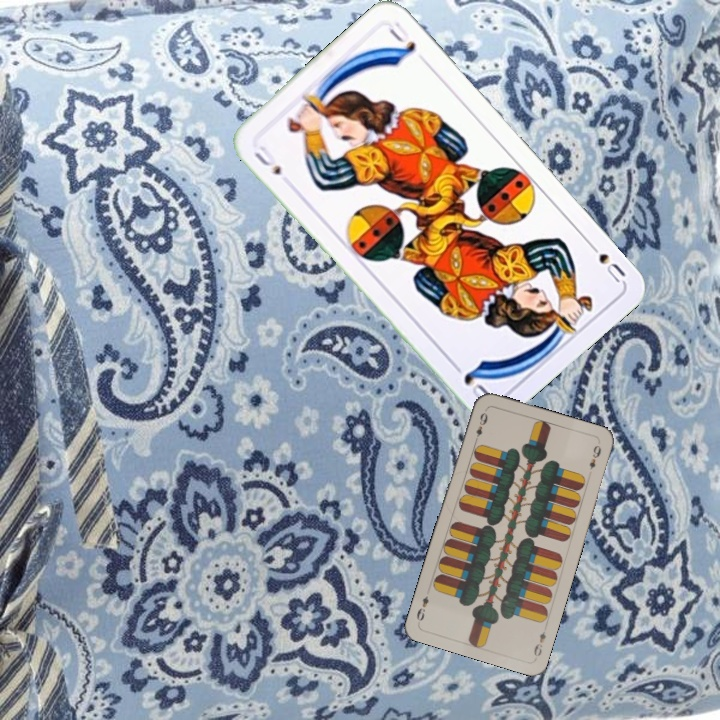E9: (530, 627, 549, 659), (472, 408, 490, 439)
SU: (582, 236, 628, 286), (250, 141, 284, 178)
